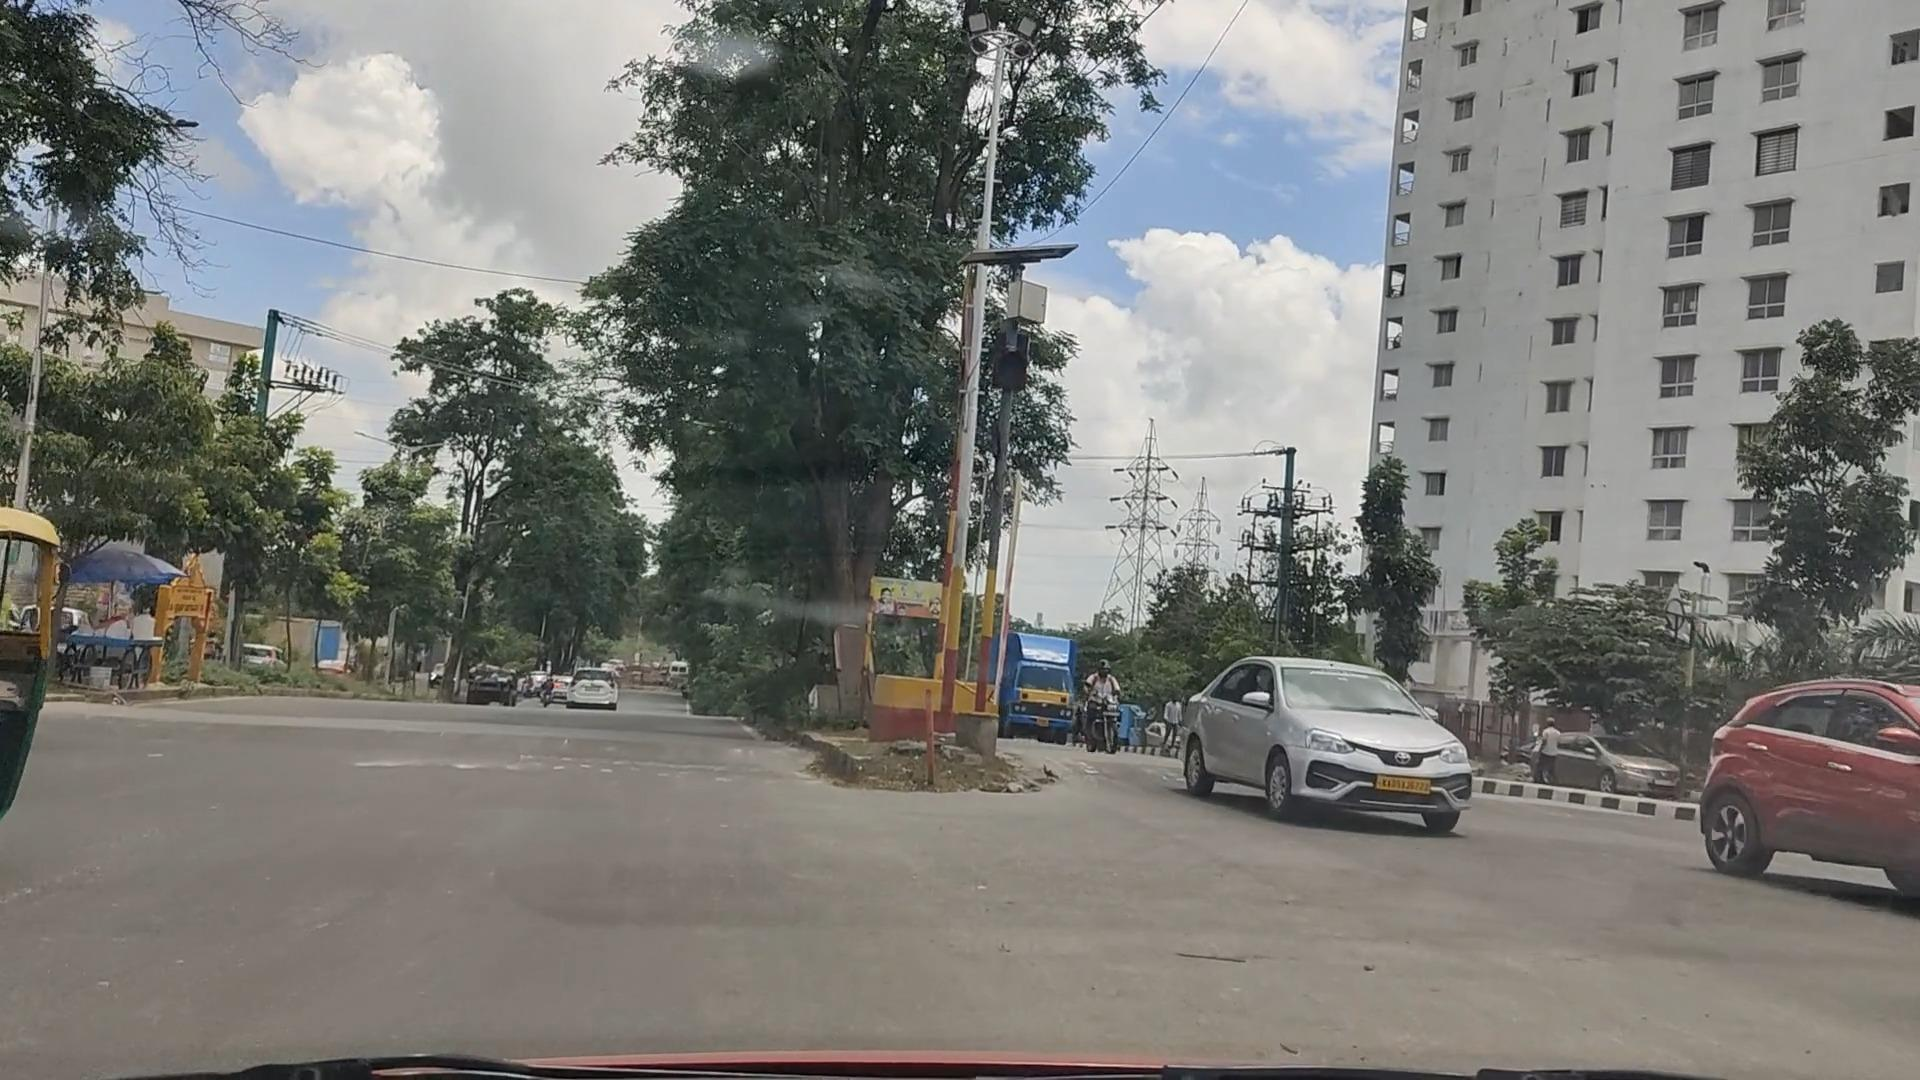LMV: (1185, 645, 1476, 835)
